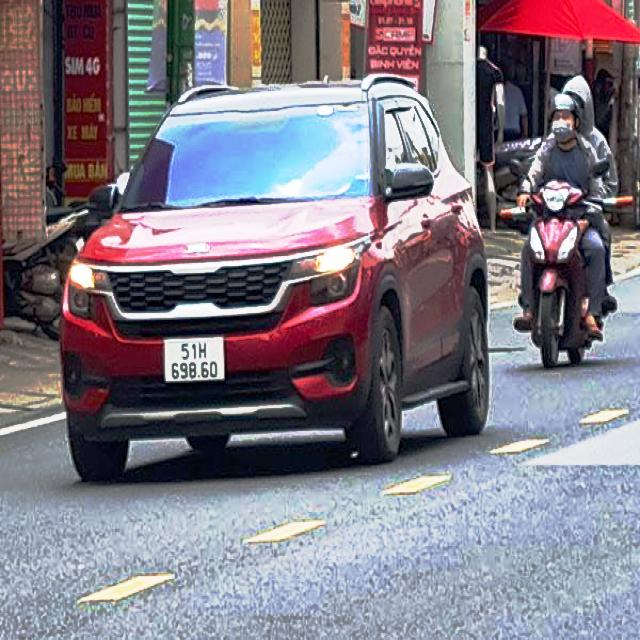license_plate: (164, 339, 225, 384)
